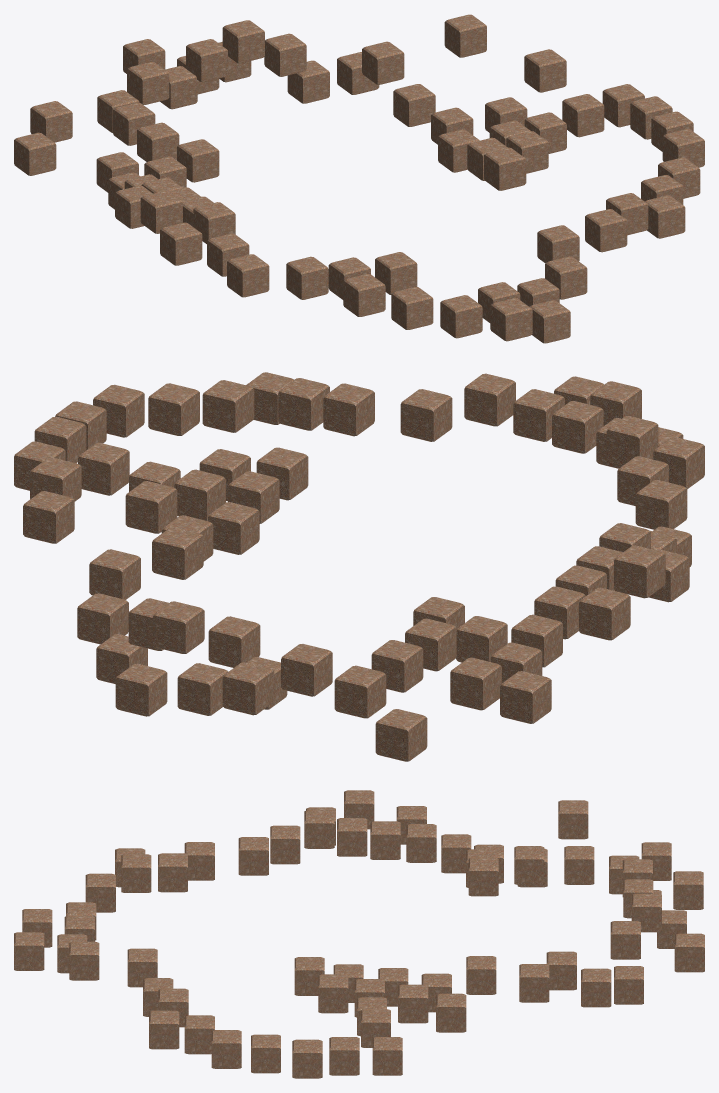
Rendered from TinyTurnFloating.fbx.
3 renders of one model, top to bottom at view 1: azimuth 30°, elevation 25°; view 2: azimuth 150°, elevation 25°; view 3: azimuth 270°, elevation 25°, orthographic. The views are drawn at different scales.
Visible parts, largest first — view 1: Ground 43.255, Ground 43.305, Ground 43.278, Ground 43.283, Ground 43.301, Ground 20.012, Ground 43.241, Ground 43.299, Ground 43.304, Ground 43.243, Ground 43.256, Ground 43.242 (+44 smaller); view 2: Ground 43.302, Ground 20.022, Ground 20.017, Ground 43.303, Ground 43.293, Ground 43.232, Ground 43.256, Ground 20.016, Ground 20.021, Ground 43.254, Ground 43.301, Ground 43.253 (+47 smaller); view 3: Ground 20.013, Ground 20.017, Ground 43.244, Ground 43.262, Ground 43.283, Ground 43.252, Ground 43.271, Ground 43.292, Ground 43.296, Ground 43.304, Ground 43.284, Ground 43.236 (+45 smaller).
Boxes of the visible parts, x1,y1,x2,y2 form: Ground 43.255: (160,222,202,265); Ground 43.305: (490,298,532,341); Ground 43.278: (484,147,526,190); Ground 43.283: (524,49,566,92); Ground 43.301: (444,14,486,57); Ground 20.012: (362,41,404,84); Ground 43.241: (286,256,328,299); Ground 43.299: (440,295,482,338); Ground 43.304: (14,132,56,175); Ground 43.243: (227,254,269,297); Ground 43.256: (585,209,627,252); Ground 43.242: (343,274,385,316); Ground 43.302: (222,662,274,715); Ground 20.022: (334,665,386,718); Ground 20.017: (115,663,167,716); Ground 43.303: (375,709,427,761); Ground 43.293: (202,380,254,432); Ground 43.232: (400,389,452,441); Ground 43.256: (323,383,374,436); Ground 20.016: (153,601,204,653); Ground 20.021: (281,644,332,696); Ground 43.254: (614,545,665,598); Ground 43.301: (23,491,74,543); Ground 43.253: (579,587,630,640); Ground 20.013: (581,968,611,1007); Ground 20.017: (674,933,704,972); Ground 43.244: (270,825,300,864); Ground 43.262: (149,1010,179,1049); Ground 43.283: (436,993,466,1032); Ground 43.252: (468,857,498,896); Ground 43.271: (292,1039,322,1078); Ground 43.292: (398,984,428,1023); Ground 43.296: (69,941,99,980); Ground 43.304: (558,800,588,839); Ground 43.284: (318,974,348,1013); Ground 43.236: (121,854,151,892).
Size of the model in its own units: 1968 by 296 by 2290.
Materials: 2 (2 with a texture image).
